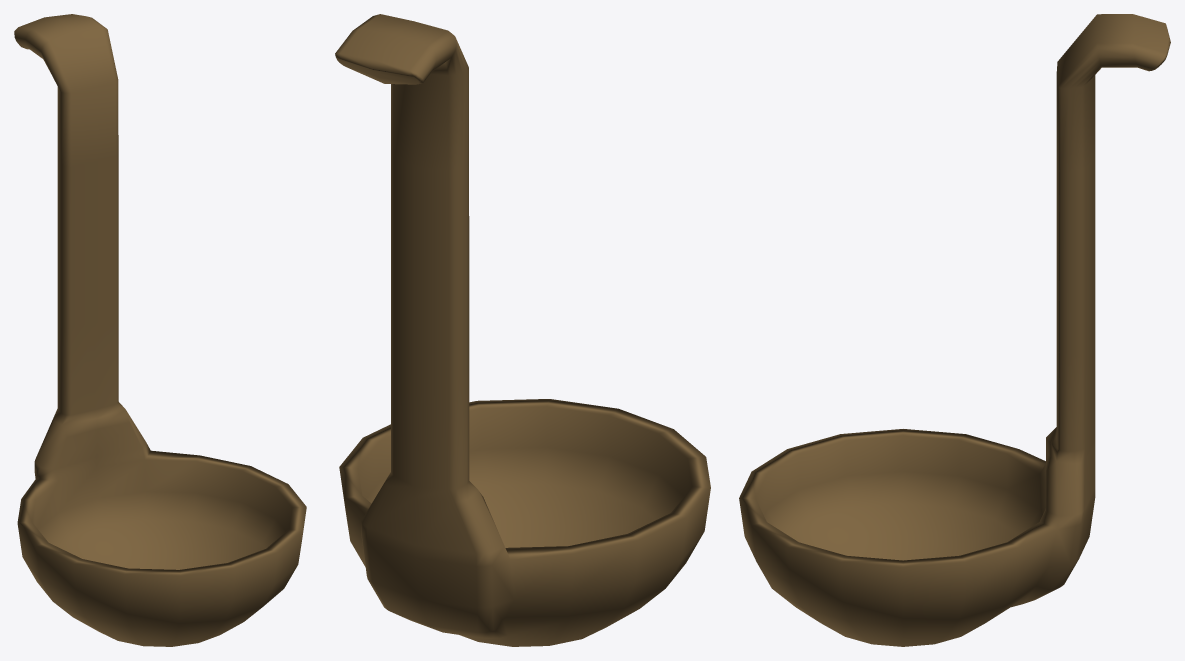
Rendered from Spoon.fbx.
3 renders of one model, left to right at view 1: azimuth 30°, elevation 25°; view 2: azimuth 150°, elevation 25°; view 3: azimuth 270°, elevation 25°, orthographic. The views are drawn at different scales.
Visible parts, largest first — view 1: Cuchara; view 2: Cuchara; view 3: Cuchara.
Part boxes in pixels (x1,y1,x2,y2): Cuchara: (14,14,306,646); Cuchara: (335,14,710,646); Cuchara: (739,14,1170,646).
Size of the model in its own units: 0.3622 by 0.7321 by 0.4766.
